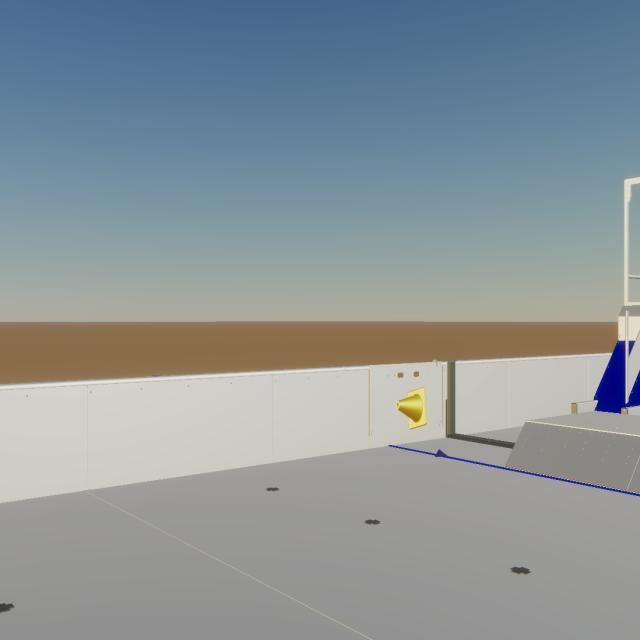frc_cone: (396, 387, 427, 430)
